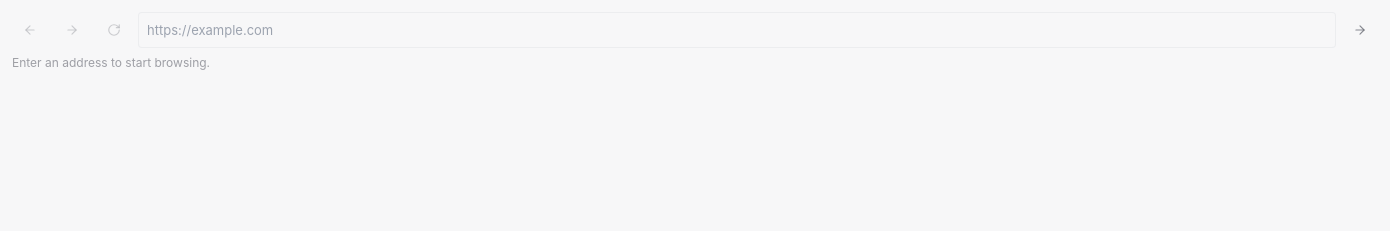
Test: BrowserSection › shows the embed-blocked fallback after ~4s without a load event
Type "https://slow.example" into the field named "address" at (737, 30), box [138,12,1336,48]
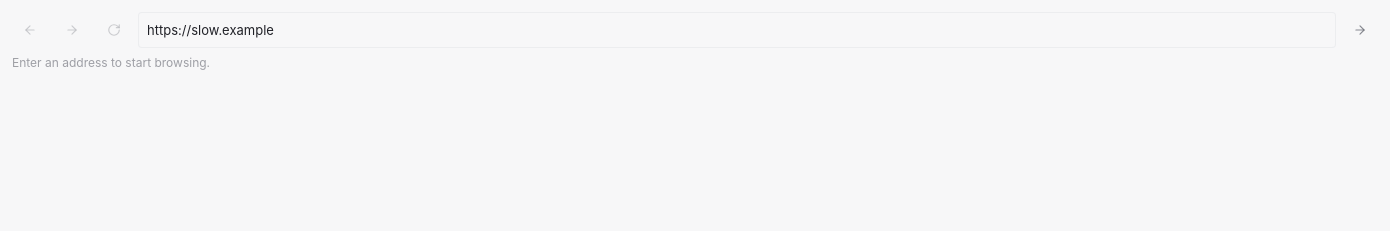
Submit the form named "address", box [12,12,1378,48]
Wait 4100 ms
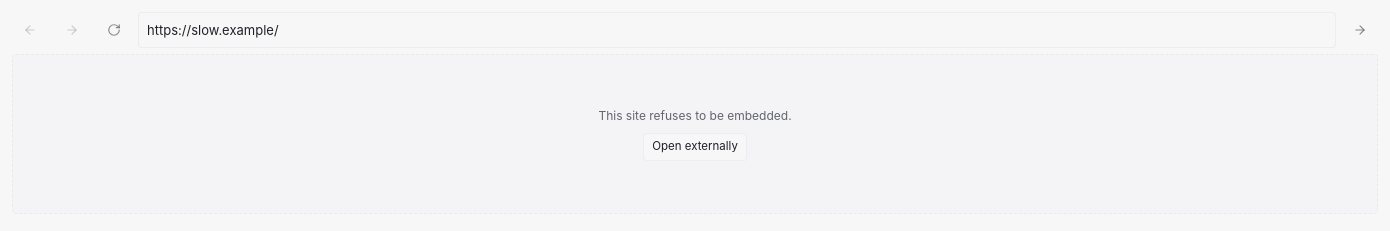
Expected: the text "This site refuses to be embedded." is shown, [598,107,792,125]
Expected: the button "Open externally" is shown, [643,133,747,161]
